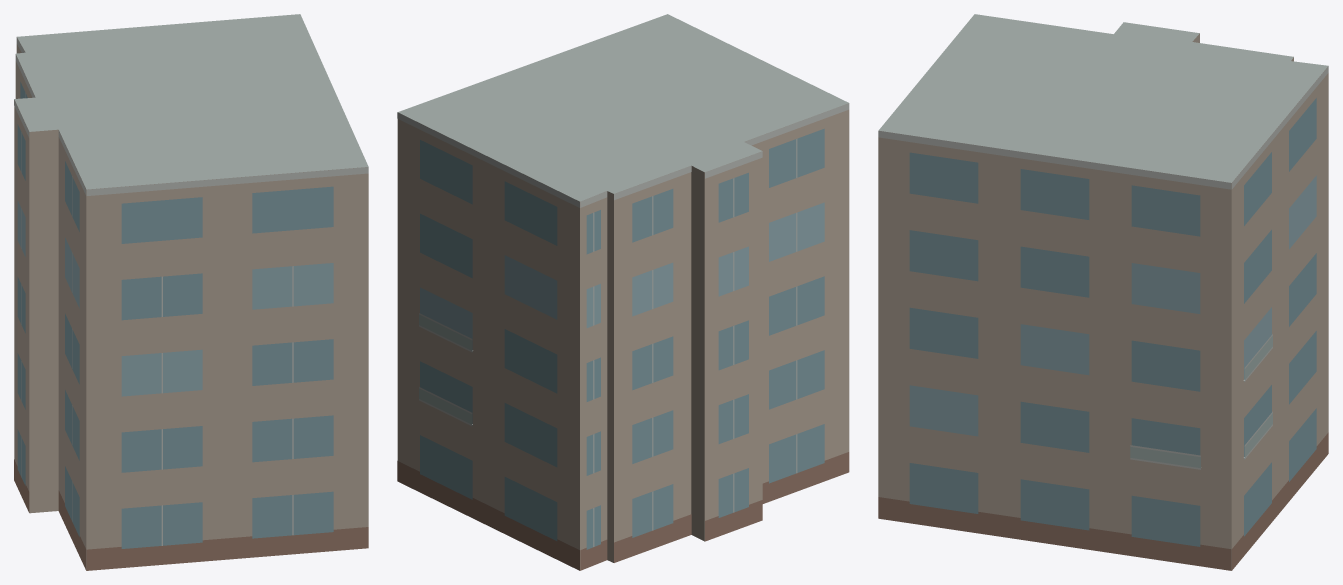
The model's file is survey-upis-32708258.glb.
The picture shows the model from 3 angles, left to right: view 1: azimuth 30°, elevation 25°; view 2: azimuth 150°, elevation 25°; view 3: azimuth 270°, elevation 25°; orthographic projection. The views are drawn at different scales.
Parts seen in each view (by area): view 1: survey-upis-32708258.tmp; view 2: survey-upis-32708258.tmp; view 3: survey-upis-32708258.tmp.
Part boxes in pixels (<box>): survey-upis-32708258.tmp: <box>14,14,368,570</box>; survey-upis-32708258.tmp: <box>397,14,849,570</box>; survey-upis-32708258.tmp: <box>878,14,1328,570</box>.
Size of the model in its own units: 13.08 by 14 by 14.74.
